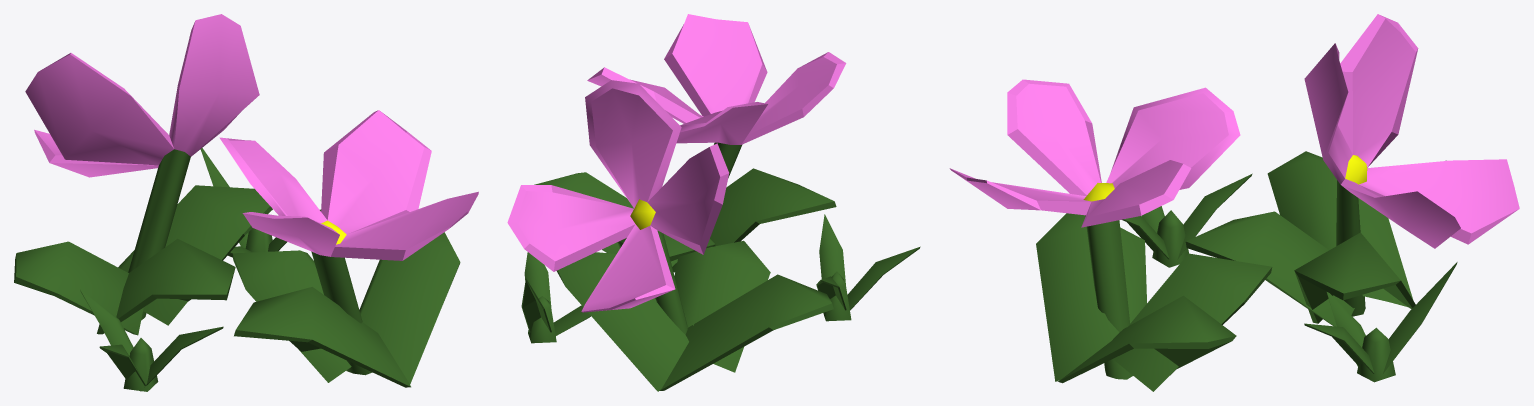
File: Flower1.FBX
3 views of the same model, side by side, from view 1: azimuth 30°, elevation 25°; view 2: azimuth 150°, elevation 25°; view 3: azimuth 270°, elevation 25° (orthographic). The views are drawn at different scales.
Parts seen in each view (by area): view 1: Box01; view 2: Box01; view 3: Box01.
Boxes of the visible parts, x1,y1,x2,y2 form: Box01: [14, 14, 478, 391]; Box01: [507, 14, 920, 391]; Box01: [949, 14, 1519, 391].
Size of the model in its own units: 8.57 by 6.23 by 10.66.
Materials: 1 (1 with a texture image).
